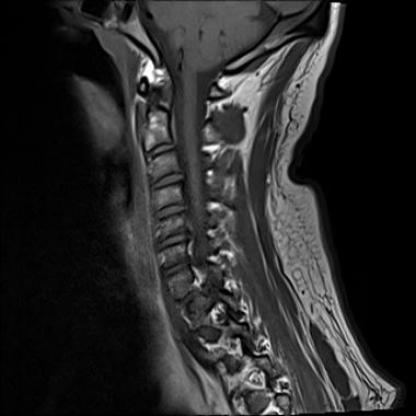Disc Herniationrotation: (148, 172, 187, 189), (150, 203, 191, 219), (154, 232, 190, 248), (159, 261, 194, 277)
Osteophytesrotation: (148, 172, 187, 189), (150, 203, 191, 219), (154, 232, 190, 248), (160, 261, 194, 277)
